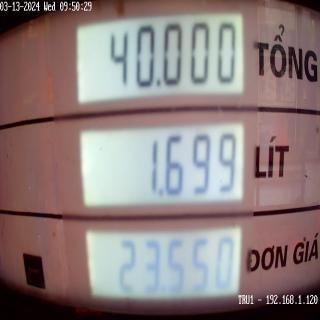screen: (70, 3, 250, 316)
